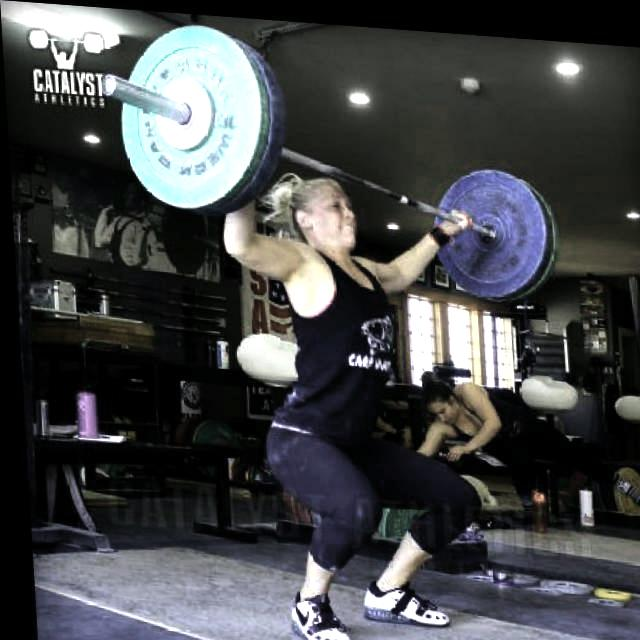barbell: (95, 13, 270, 220)
